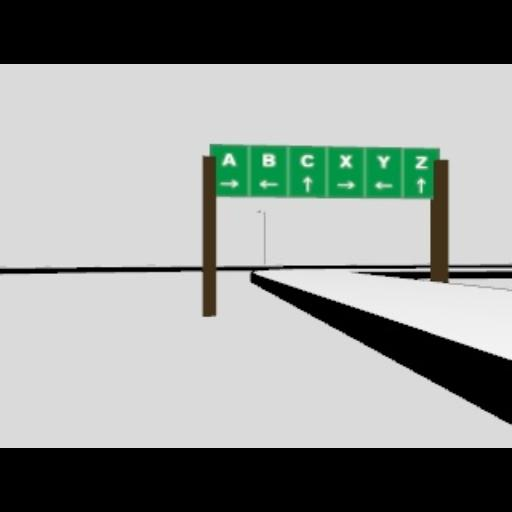A: (221, 152, 235, 166)
B: (261, 152, 275, 166)
C: (299, 154, 313, 166)
Left: (258, 179, 278, 189), (372, 181, 392, 189)
Right: (336, 179, 356, 189), (220, 179, 238, 187)
Straight: (302, 174, 312, 192), (416, 176, 426, 192)
X: (340, 154, 352, 168)
Y: (376, 154, 390, 168)
Z: (414, 156, 428, 168)
